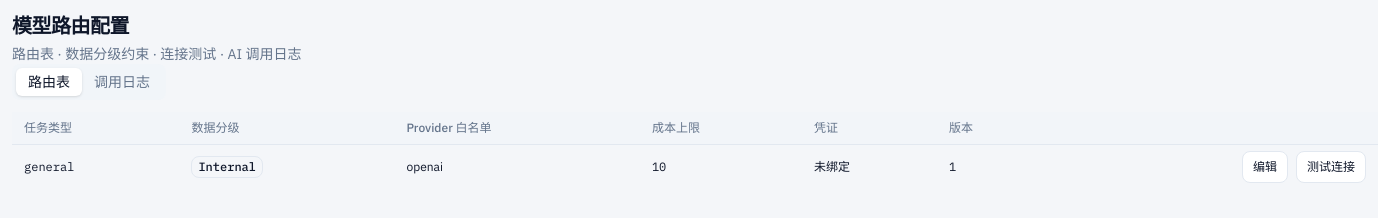
Test: ModelRoutePage › runs connection test via API-198
Step 1. Click the button "测试连接" → [1331, 166], box [1296, 150, 1366, 182]
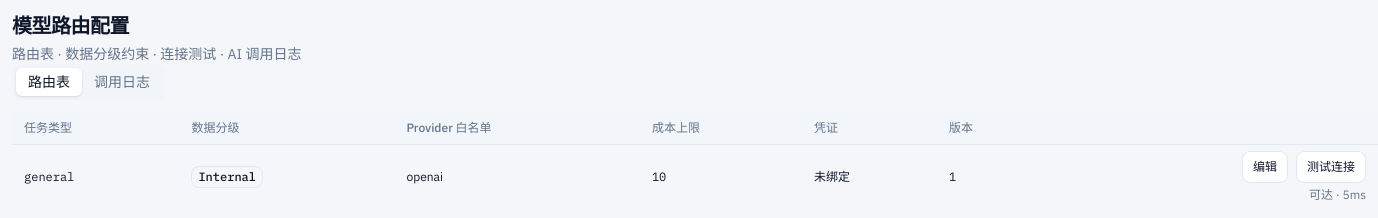
Check: the text "可达" is shown, box [1309, 186, 1333, 202]
